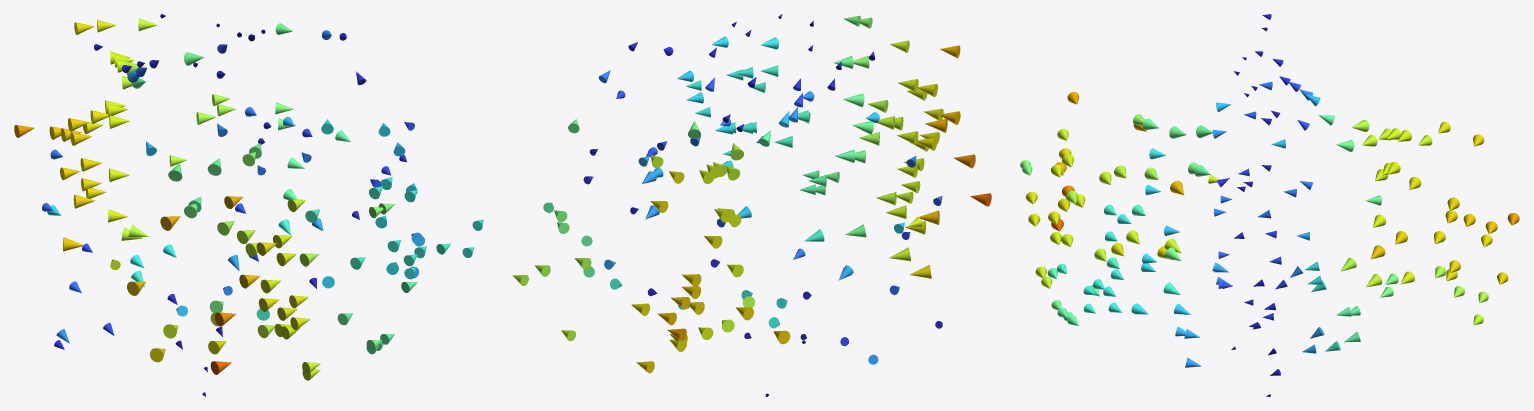
File: LineasCorrienteH2-O2_mh2-2.70_V-0.7.glb
The picture shows the model from 3 angles, left to right: view 1: azimuth 30°, elevation 25°; view 2: azimuth 150°, elevation 25°; view 3: azimuth 270°, elevation 25°; orthographic projection. The views are drawn at different scales.
Size of the model in its own units: 0.000918 by 0.000952 by 0.00123.
2 materials, 2 textured.
